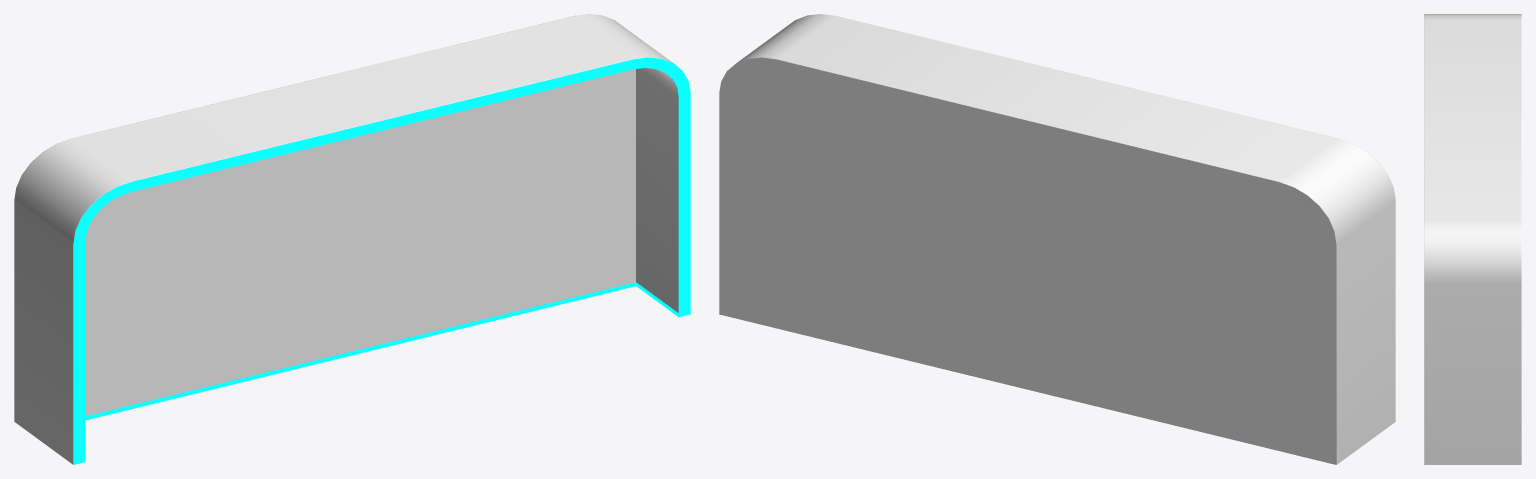
File: CurvedWallFacade.fbx
3 views of the same model, side by side, from view 1: azimuth 30°, elevation 25°; view 2: azimuth 150°, elevation 25°; view 3: azimuth 270°, elevation 25° (orthographic). The views are drawn at different scales.
Parts seen in each view (by area): view 1: CurvedWallFacade.001; view 2: CurvedWallFacade.001; view 3: CurvedWallFacade.001.
Part boxes in pixels (box(x1,y1,x2,y2)): CurvedWallFacade.001: box(14, 14, 690, 464); CurvedWallFacade.001: box(719, 14, 1395, 464); CurvedWallFacade.001: box(1424, 14, 1521, 464).
Size of the model in its own units: 360 by 150 by 60.
Materials: 1 (1 with a texture image).
